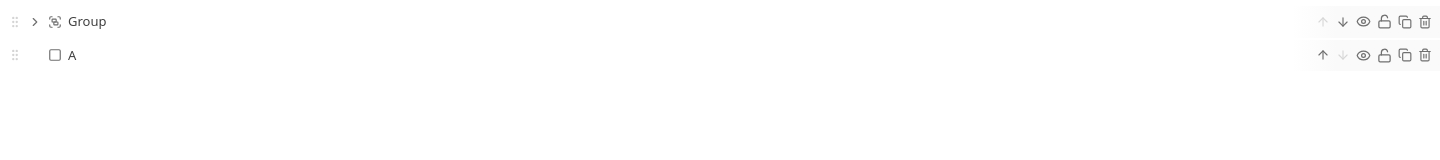
Test case: layers inside a group › opens a group to list its children indented, and closes it again
Click the button named "editor.expand".
click(35, 22)  # box left=28, top=15, right=42, bottom=29
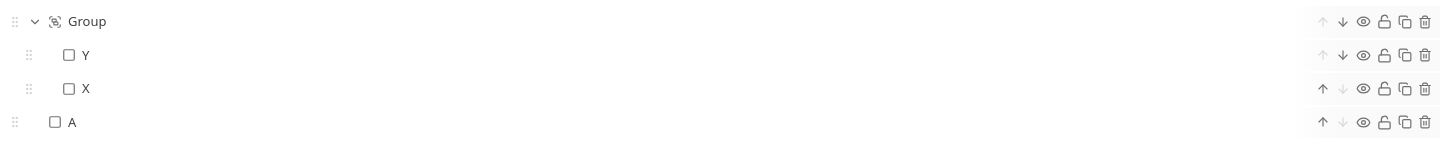
Result: the number of list items is 4 at left=0, top=4, right=1439, bottom=38; left=0, top=38, right=1439, bottom=71; left=0, top=71, right=1439, bottom=104; left=0, top=104, right=1439, bottom=138
Click the button named "editor.collapse".
click(35, 22)  # box left=28, top=15, right=42, bottom=29
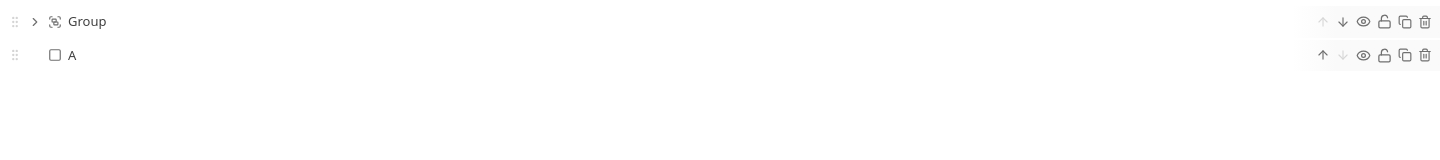
Result: the number of list items is 2 at left=0, top=4, right=1439, bottom=38; left=0, top=38, right=1439, bottom=71
